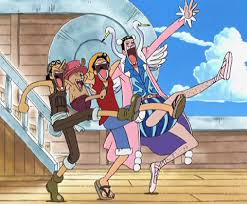chopper: (61, 57, 89, 94)
luffy: (88, 52, 111, 85)
